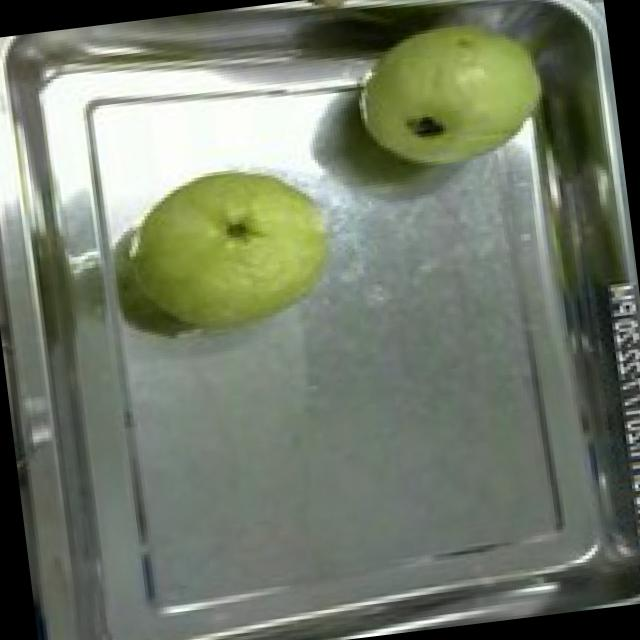Fruit: (115, 149, 347, 355), (334, 0, 562, 190)
